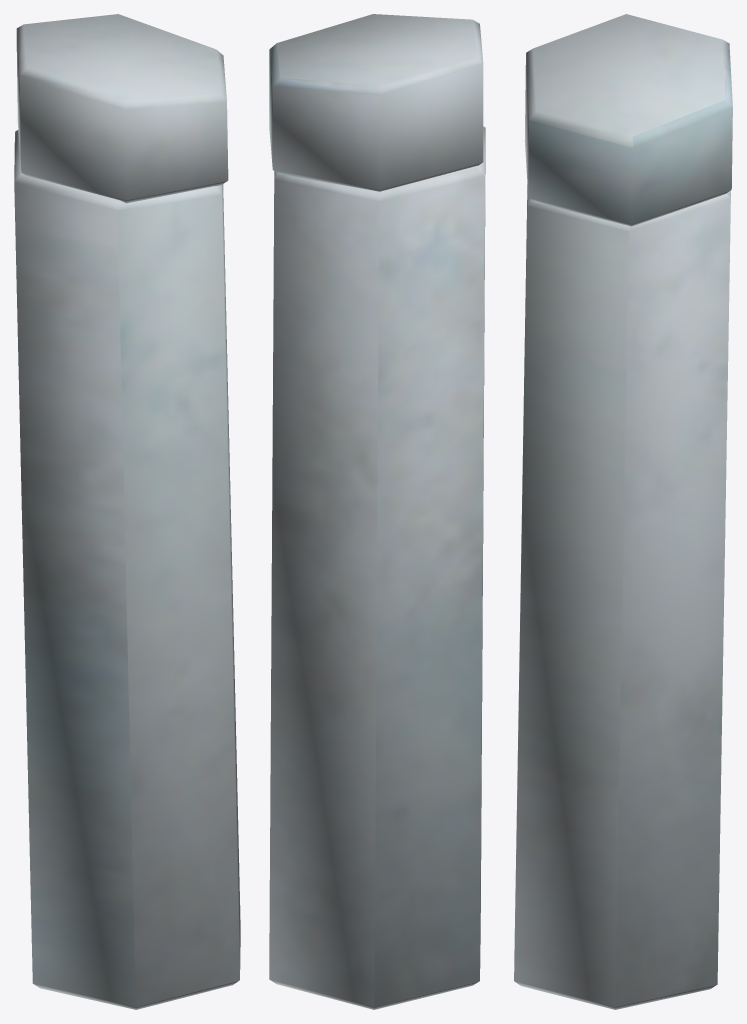
File: P_RockHexic_Piece15.obj
3 views of the same model, side by side, from view 1: azimuth 30°, elevation 25°; view 2: azimuth 150°, elevation 25°; view 3: azimuth 270°, elevation 25° (orthographic). The views are drawn at different scales.
Size of the model in its own units: 4.18 by 16.78 by 3.69.
